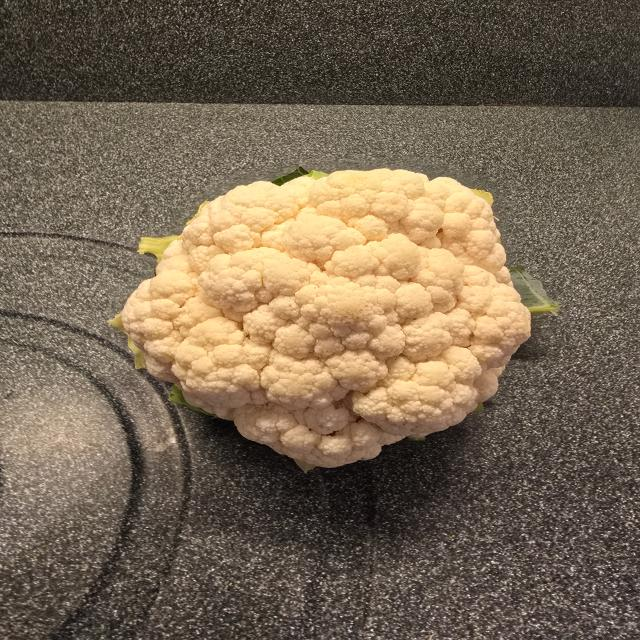Cauliflower: (102, 156, 565, 482)
